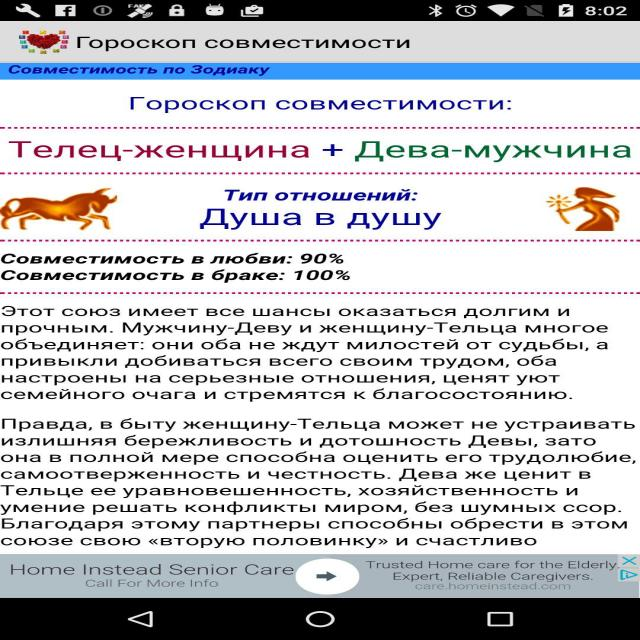text: (23, 81, 640, 567)
